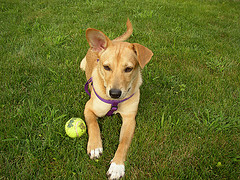tennis ball: (64, 116, 86, 139)
